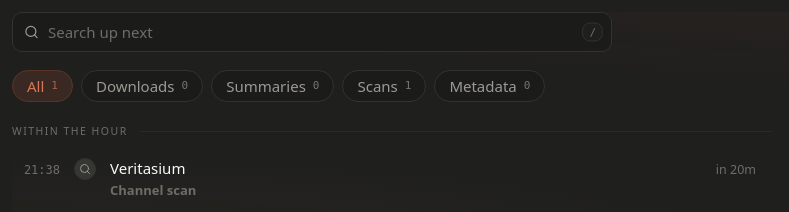
Test: UpNext filters › keeps the chips when the filter matches nothing
Expected: the text "Veritasium" is shown, [110,158,185,178]
Click the button "Summaries 0". click: (273, 86)
box: [211,70,334,102]
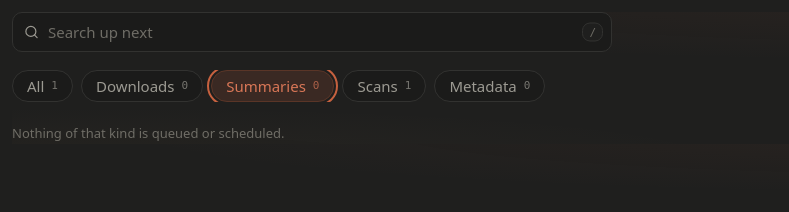
Result: the text "Nothing of that kind is queued or scheduled." is shown at [12,124,284,142]
Click the button "All 1". click: (42, 86)
box: [12,70,73,102]
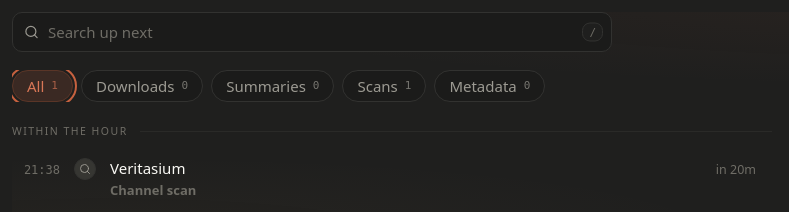
Result: the text "Veritasium" is shown at [110,158,185,178]
